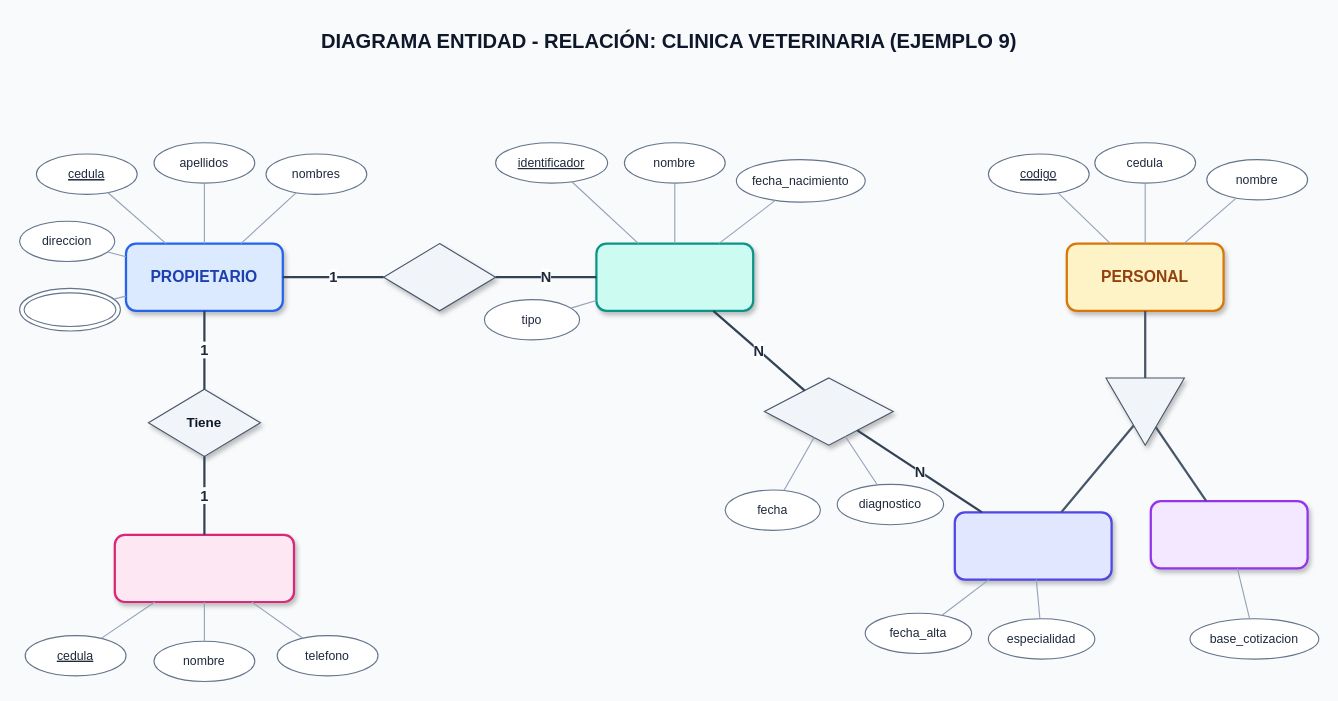
The diagram is 1338 pixels wide and 701 high, and some of its shapes have lost their labels. Here are the shapes that lost their labels. From the top down, the centre of each, then its label:
At pixel 440 278: "Lleva".
At pixel 675 278: "MASCOTA".
At pixel 69 309: "telefonos".
At pixel 829 412: "Pasa_Consulta".
At pixel 1146 412: "Es_Un (ISA)".
At pixel 1034 547: "VETERINARIO".
At pixel 1230 536: "AUXILIAR".
At pixel 205 569: "FAMILIAR_CONTACTO".
